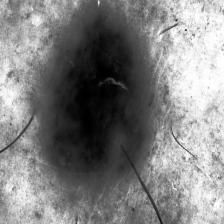Benign Marking or Mole: (40, 12, 152, 173)
